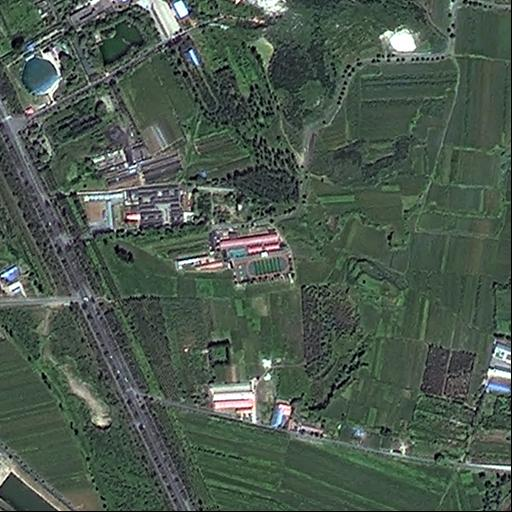school: (211, 227, 293, 283)
